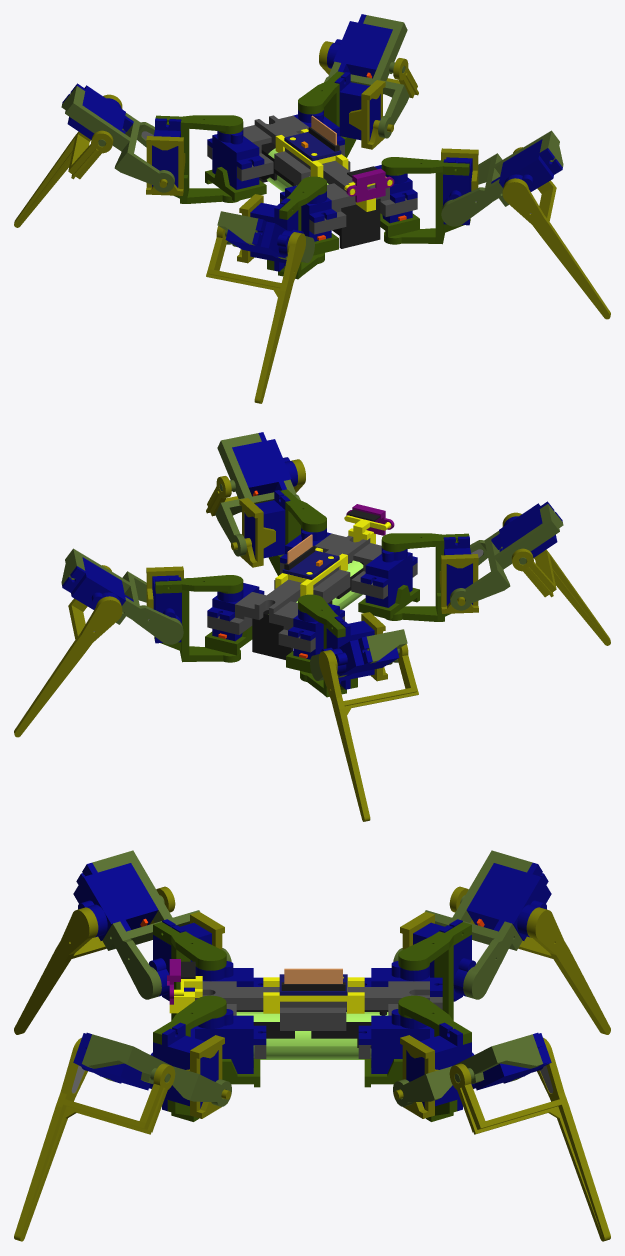
Rendered from full-assembly.gltf.
3 renders of one model, top to bottom at view 1: azimuth 30°, elevation 25°; view 2: azimuth 150°, elevation 25°; view 3: azimuth 270°, elevation 25°, orthographic. The views are drawn at different scales.
Parts seen in each view (by area): view 1: 9g Servo (×11), object 6, object 20, object 36, object 11, object 15, object 14, object 43, object 39, object 34, object 7, object 23 (+11 smaller); view 2: 9g Servo (×11), object 6, object 39, object 29, object 46, object 43, object 49, object 15, object 20, object 23, object 34, object 14 (+12 smaller); view 3: 9g Servo (×12), object 6, object 11, object 46, object 29, object 36, object 43, object 15, object 20, object 39, 18650 Cell, object 34 (+14 smaller).
Part boxes in pixels (left/top/right/bottom): 9g Servo (×11): left=62, top=14, right=562, bottom=271; object 6: left=207, top=115, right=417, bottom=234; object 20: left=206, top=226, right=305, bottom=403; object 36: left=61, top=86, right=174, bottom=192; object 11: left=502, top=147, right=610, bottom=319; object 15: left=441, top=130, right=563, bottom=226; object 14: left=381, top=157, right=470, bottom=244; object 43: left=324, top=15, right=409, bottom=138; object 39: left=14, top=94, right=122, bottom=227; object 34: left=155, top=115, right=243, bottom=203; object 7: left=259, top=142, right=380, bottom=248; object 23: left=267, top=176, right=326, bottom=279; 9g Servo (×11): left=62, top=432, right=562, bottom=689; object 6: left=207, top=533, right=417, bottom=652; object 39: left=319, top=644, right=418, bottom=821; object 29: left=450, top=504, right=563, bottom=610; object 46: left=14, top=565, right=122, bottom=737; object 43: left=61, top=548, right=183, bottom=644; object 49: left=154, top=575, right=243, bottom=662; object 15: left=215, top=433, right=300, bottom=556; object 20: left=502, top=512, right=610, bottom=645; object 23: left=381, top=533, right=469, bottom=621; object 34: left=298, top=594, right=357, bottom=697; object 14: left=268, top=489, right=326, bottom=575; 9g Servo (×12): left=73, top=862, right=551, bottom=1110; object 6: left=195, top=981, right=442, bottom=1058; object 11: left=14, top=1037, right=175, bottom=1241; object 46: left=449, top=1037, right=610, bottom=1241; object 29: left=92, top=850, right=231, bottom=999; object 36: left=393, top=850, right=532, bottom=999; object 43: left=393, top=1034, right=542, bottom=1106; object 15: left=82, top=1034, right=231, bottom=1106; object 20: left=14, top=886, right=175, bottom=1034; object 39: left=449, top=886, right=610, bottom=1034; 18650 Cell: left=236, top=1012, right=388, bottom=1059; object 34: left=398, top=922, right=471, bottom=1020.
Size of the model in its own units: 0.1915 by 0.0798 by 0.2288.
